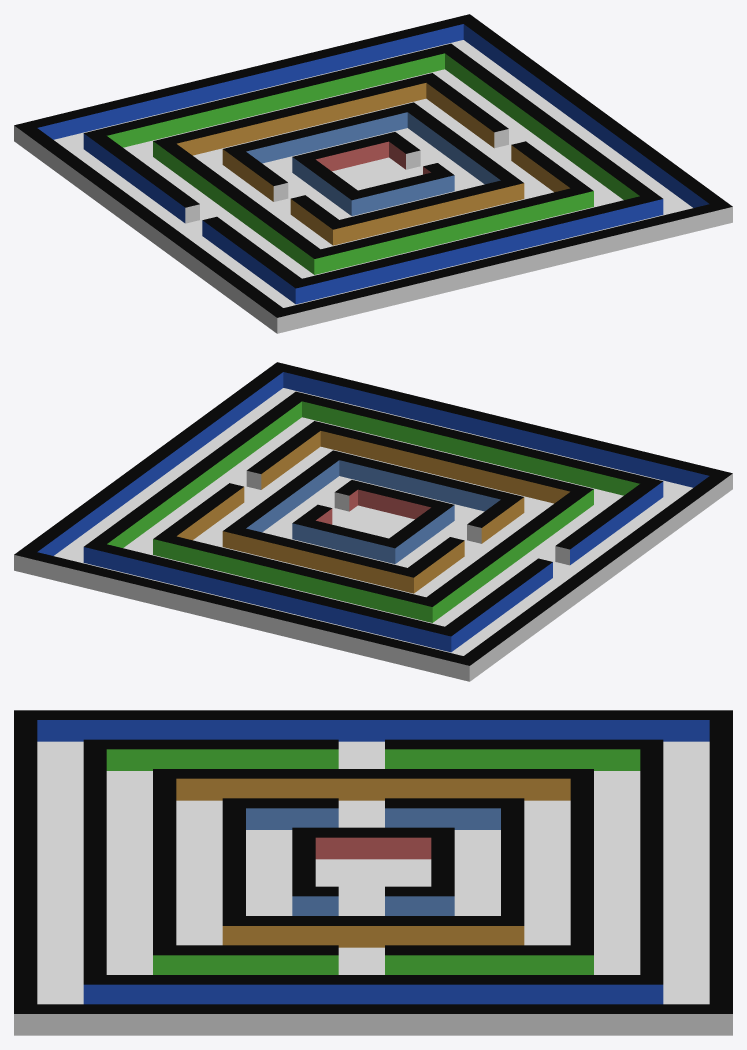
File: Lab1.fbx
The picture shows the model from 3 angles, top to bottom: view 1: azimuth 30°, elevation 25°; view 2: azimuth 150°, elevation 25°; view 3: azimuth 270°, elevation 25°; orthographic projection. The views are drawn at different scales.
Parts seen in each view (by area): view 1: Plane.001, Plane.005, Plane.003, Plane.008, Plane.010, Plane.002, Plane.004, Plane.013, Plane.016, Plane.009, Plane.011, Plane.019 (+12 smaller); view 2: Plane.001, Plane.003, Plane.005, Plane.010, Plane.008, Plane.004, Plane.002, Plane.013, Plane.016, Plane.009, Plane.011, Plane.022 (+13 smaller); view 3: Plane.001, Plane.004, Plane.002, Plane.009, Plane.011, Plane.021, Plane.005, Plane.006, Plane.007, Plane.003, Plane.010, Plane.008 (+13 smaller).
Part boxes in pixels (x1,y1,x2,y2): Plane.001: [54, 40, 692, 307]; Plane.005: [268, 200, 732, 333]; Plane.003: [14, 18, 463, 146]; Plane.008: [287, 192, 663, 304]; Plane.010: [83, 43, 459, 154]; Plane.002: [22, 128, 282, 327]; Plane.004: [455, 14, 723, 207]; Plane.013: [321, 185, 593, 271]; Plane.016: [168, 76, 426, 155]; Plane.009: [445, 50, 654, 199]; Plane.011: [153, 137, 328, 274]; Plane.019: [340, 177, 524, 241]; Plane.001: [54, 388, 692, 655]; Plane.003: [28, 552, 478, 681]; Plane.005: [269, 362, 732, 494]; Plane.010: [83, 540, 459, 652]; Plane.008: [287, 391, 663, 502]; Plane.004: [14, 368, 283, 573]; Plane.002: [464, 476, 724, 675]; Plane.013: [306, 421, 578, 503]; Plane.016: [168, 536, 425, 619]; Plane.009: [92, 398, 301, 547]; Plane.011: [418, 485, 593, 622]; Plane.022: [237, 528, 422, 593]; Plane.001: [37, 741, 709, 1004]; Plane.004: [37, 1004, 732, 1035]; Plane.002: [37, 710, 709, 741]; Plane.009: [106, 975, 640, 1004]; Plane.011: [153, 769, 593, 800]; Plane.021: [246, 916, 524, 947]; Plane.005: [14, 710, 37, 1035]; Plane.006: [385, 739, 640, 770]; Plane.007: [106, 739, 338, 770]; Plane.003: [709, 710, 732, 1004]; Plane.010: [640, 739, 663, 1004]; Plane.008: [83, 739, 106, 1004].
Bounding box in the file's own units: 300 × 10 × 300.
